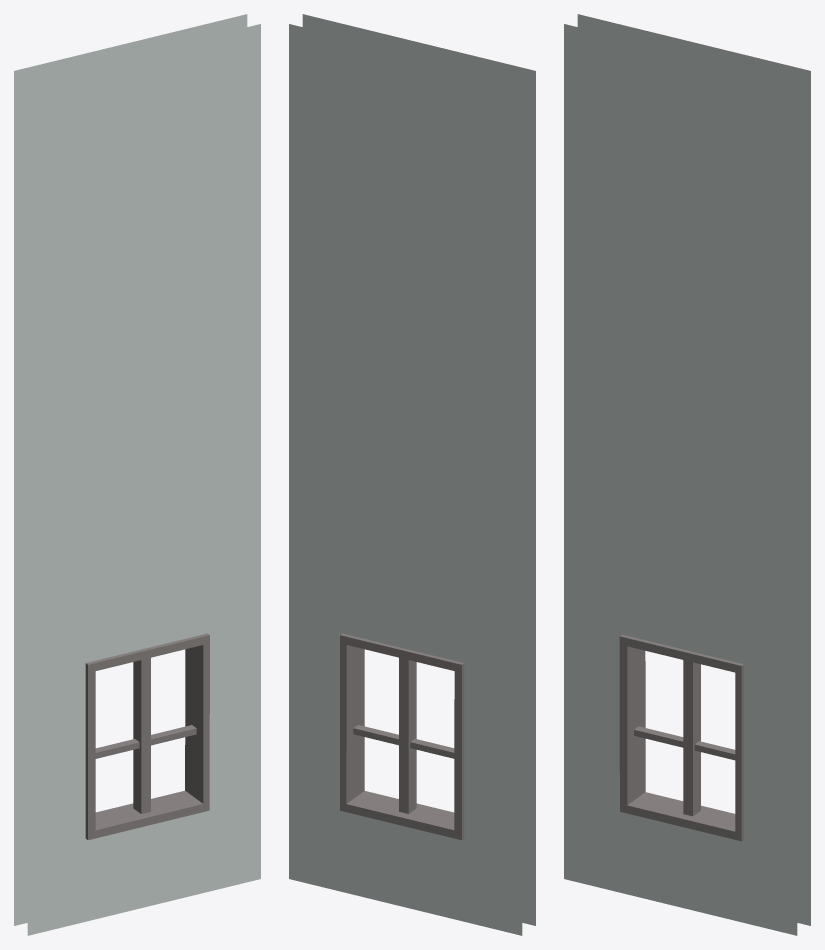
The model's file is SM_Wall_Outer_Window_A_200.fbx.
3 views of the same model, side by side, from view 1: azimuth 30°, elevation 25°; view 2: azimuth 150°, elevation 25°; view 3: azimuth 330°, elevation 25° (orthographic).
Visible parts, largest first — view 1: SM_Wall_Outer_Window_A_200; view 2: SM_Wall_Outer_Window_A_200; view 3: SM_Wall_Outer_Window_A_200.
Part boxes in pixels (x1=…): SM_Wall_Outer_Window_A_200: x1=14, y1=14, x2=260, y2=935; SM_Wall_Outer_Window_A_200: x1=289, y1=14, x2=535, y2=935; SM_Wall_Outer_Window_A_200: x1=564, y1=14, x2=810, y2=935.
Bounding box in the file's own units: 200 × 27.27 × 700.
Materials: 5 (5 with a texture image).
